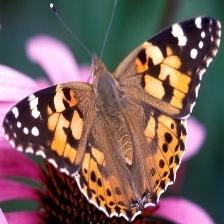butterfly: (2, 16, 220, 223)
